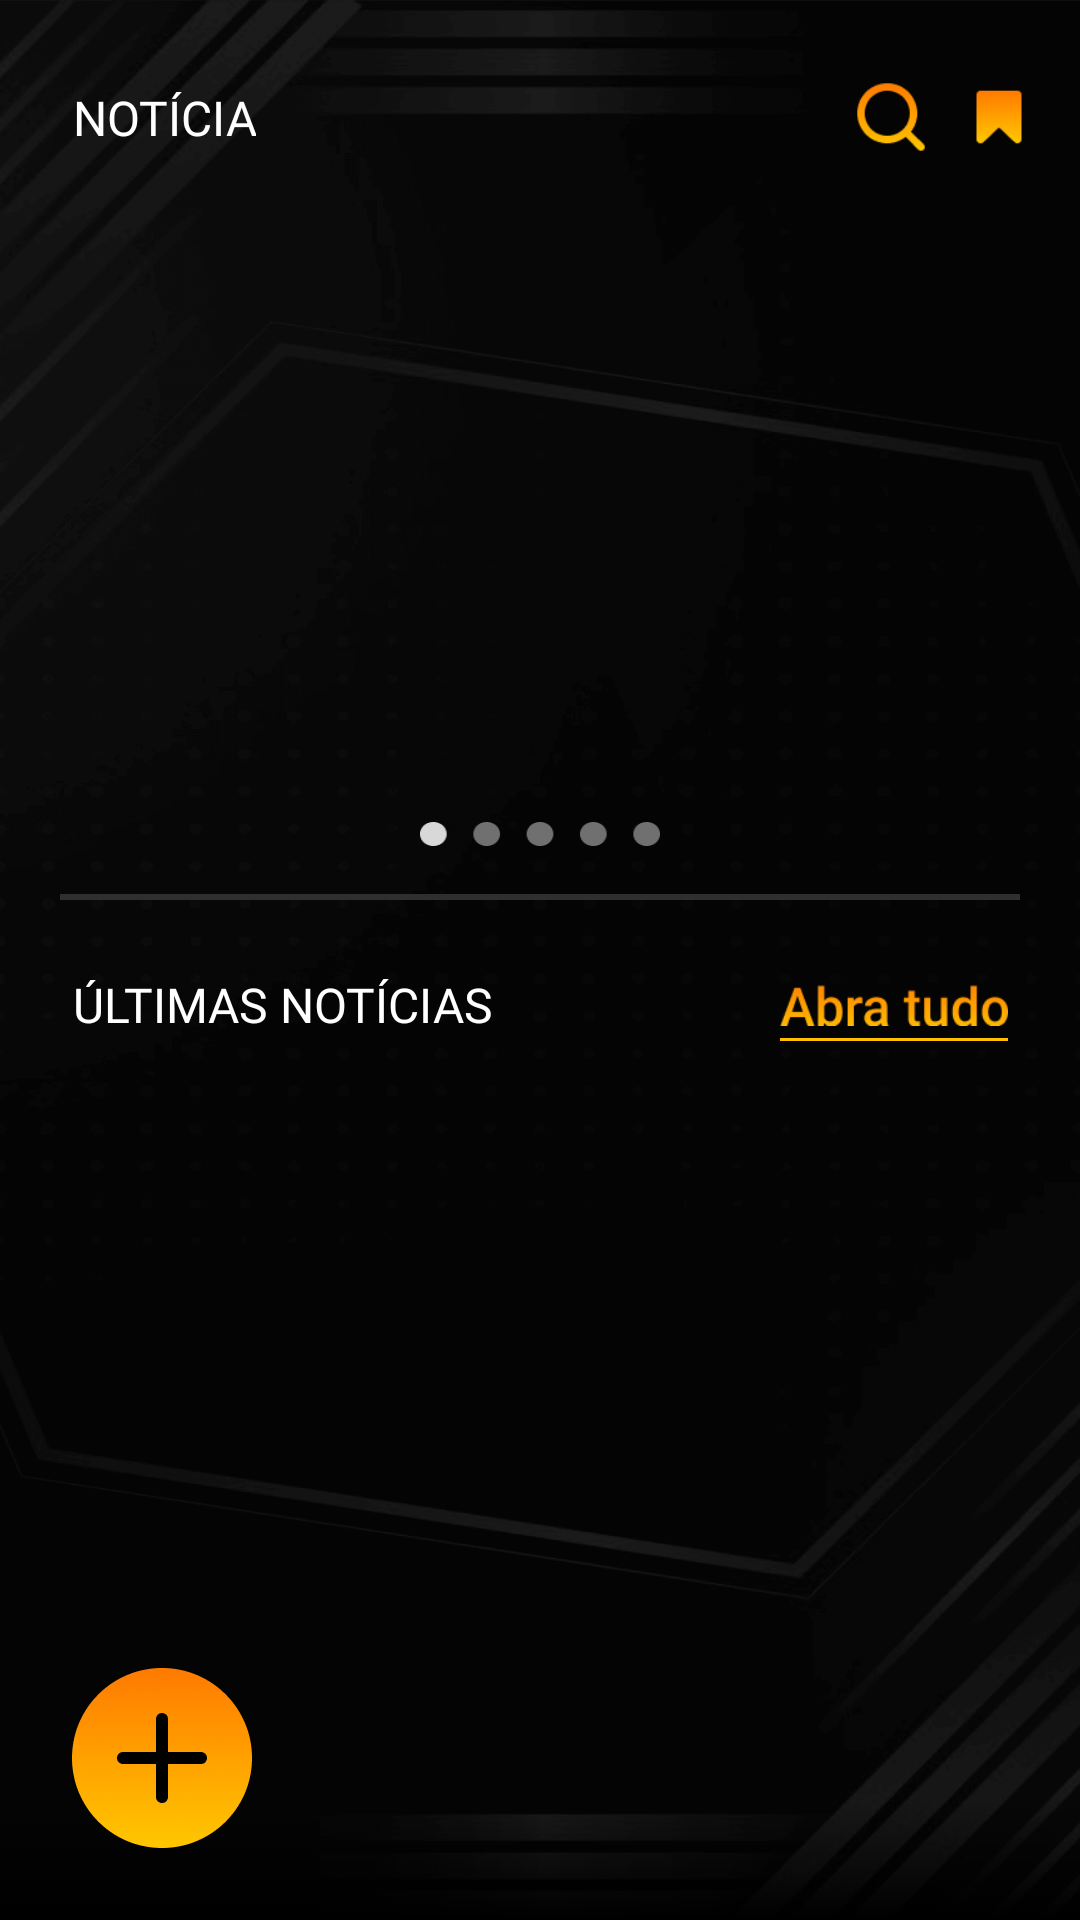

Icon bounding boxes for this 1080 × 1920 phone screenshot, format {"x1": x1, "y1": y1, "x2": x2, "y2": y2}:
bookmark kaverdarm: {"x1": 976, "y1": 90, "x2": 1022, "y2": 144}
search kaverdarm: {"x1": 857, "y1": 83, "x2": 925, "y2": 151}
